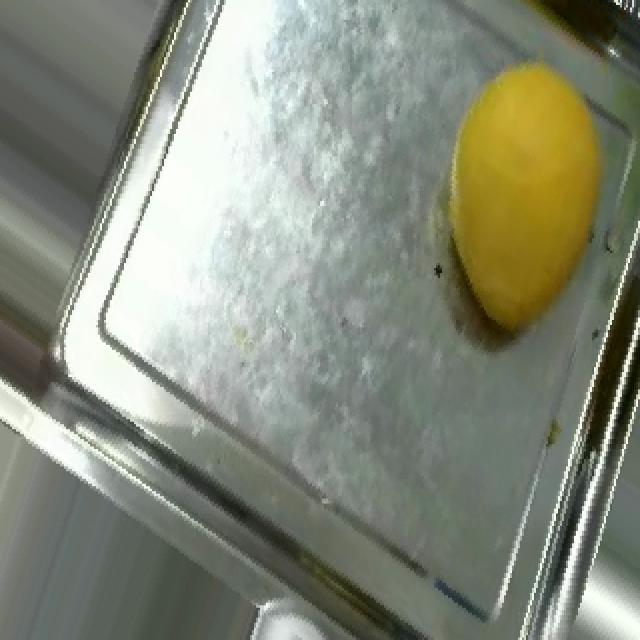fruit: (382, 19, 640, 364)
